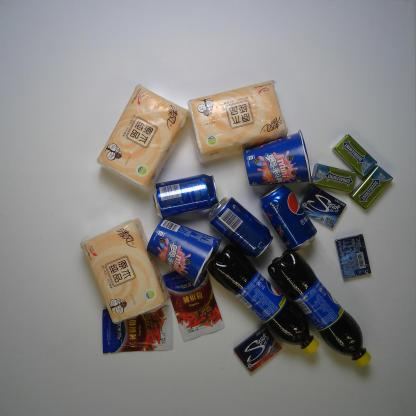Dessert: (142, 221, 220, 278), (242, 129, 316, 187)
Drink: (266, 250, 384, 375), (214, 244, 319, 355), (208, 195, 273, 258), (262, 188, 318, 247), (148, 173, 218, 216)
Gum: (233, 324, 286, 374), (352, 168, 404, 210), (296, 185, 344, 228), (336, 135, 378, 177), (336, 235, 374, 281), (309, 163, 352, 193)
Seasoner: (160, 263, 230, 340), (102, 302, 170, 352)
Tissue: (98, 79, 192, 186), (80, 218, 169, 325), (188, 78, 290, 164)
